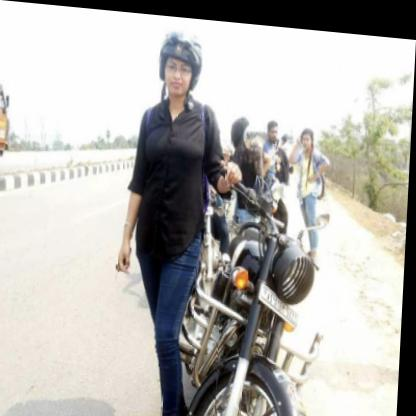With Helmet: (155, 23, 208, 100)
